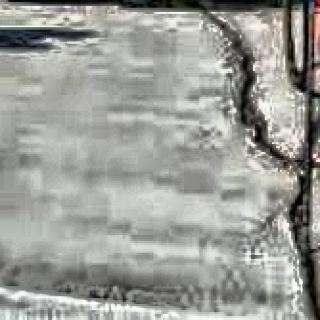crack: (194, 2, 318, 320)
